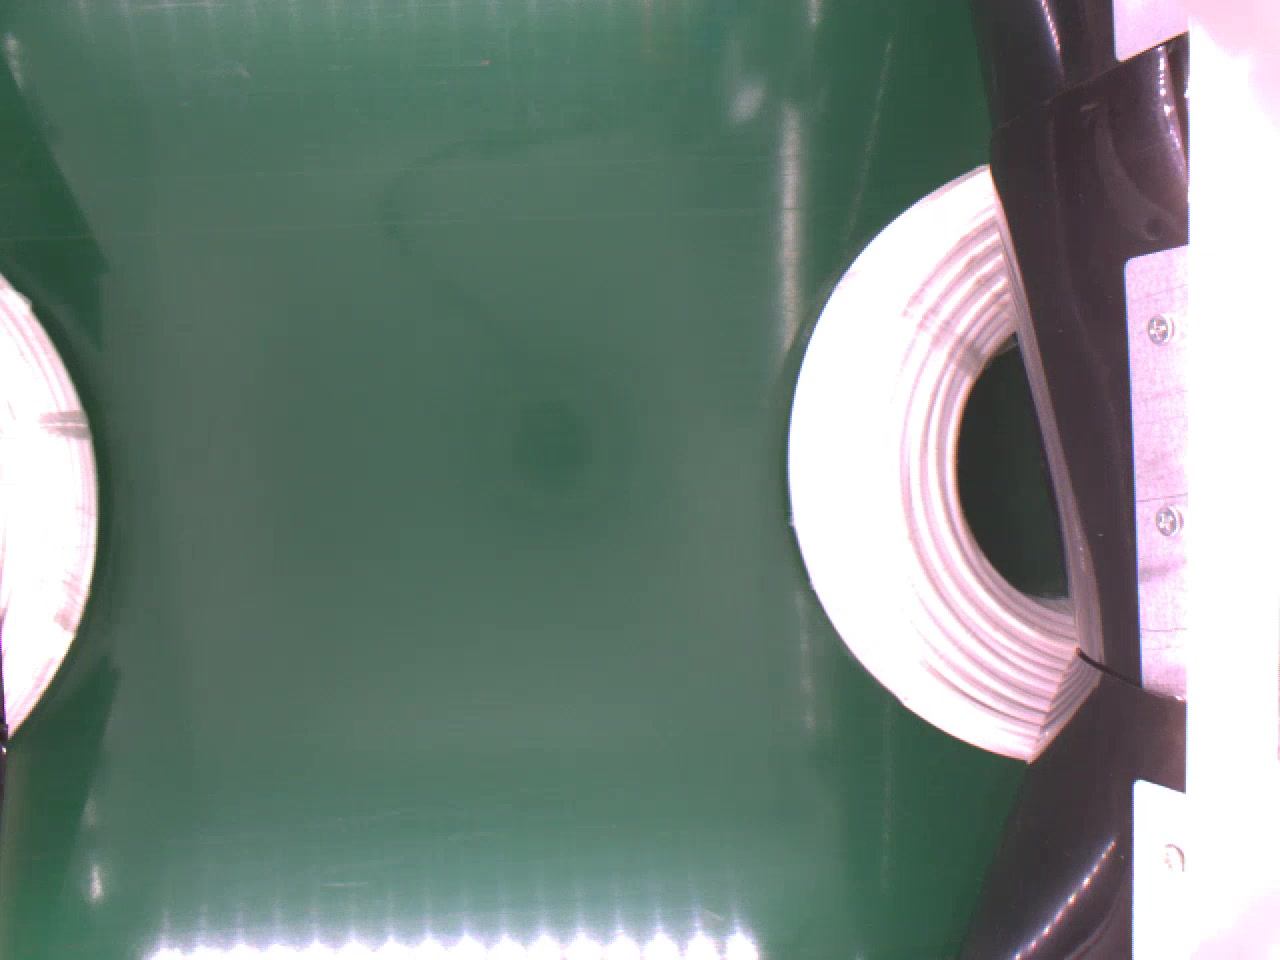white: (786, 146, 1095, 763), (0, 267, 95, 732)
